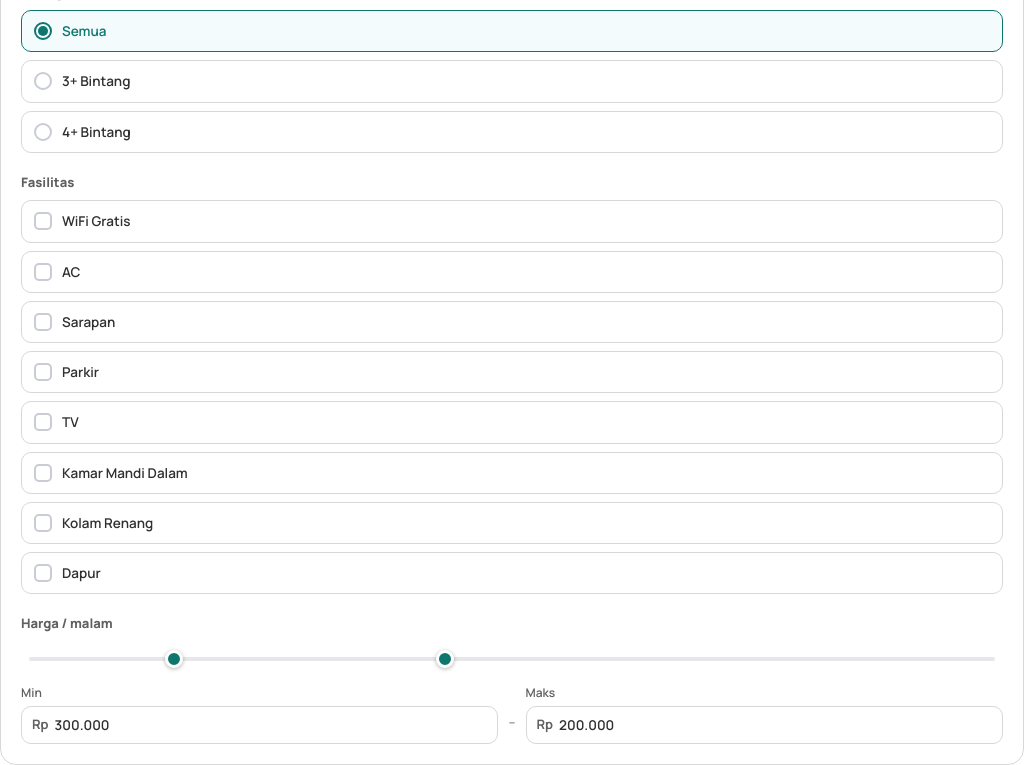
it: FilterBar input harga › menyesuaikan batas silang saat blur bila Min melebihi Maks
The image size is (1024, 765).
(page scrolled)
Click the field labelled "Min" at [271, 725], box [55,715,488,735]
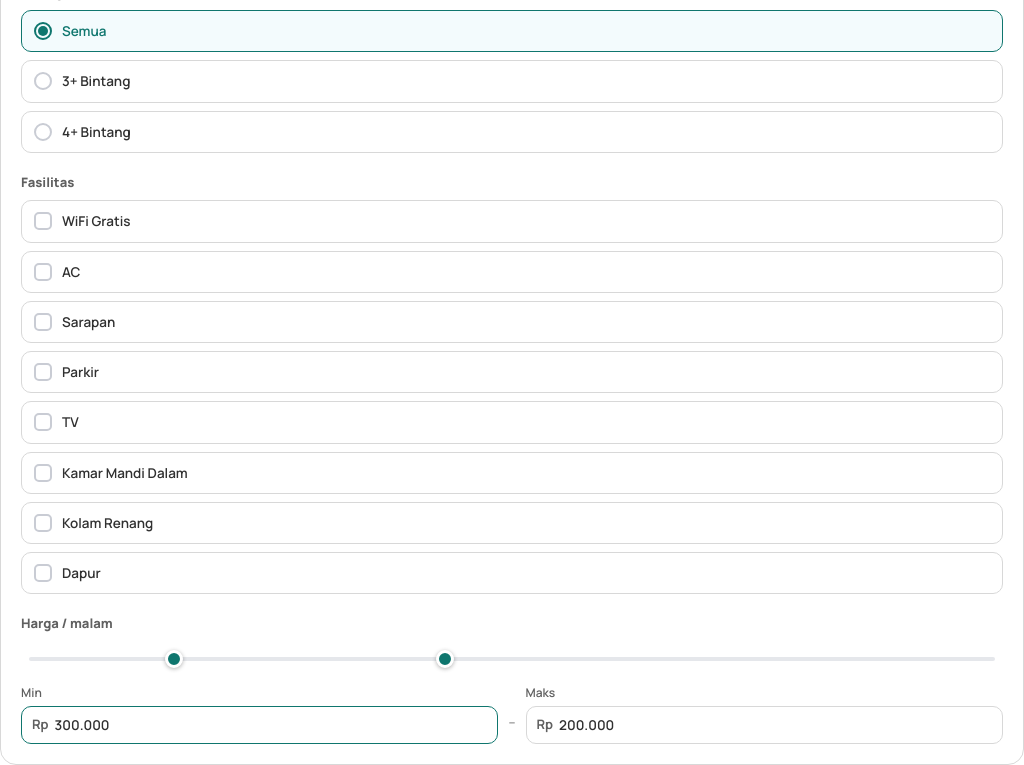
Press Tab
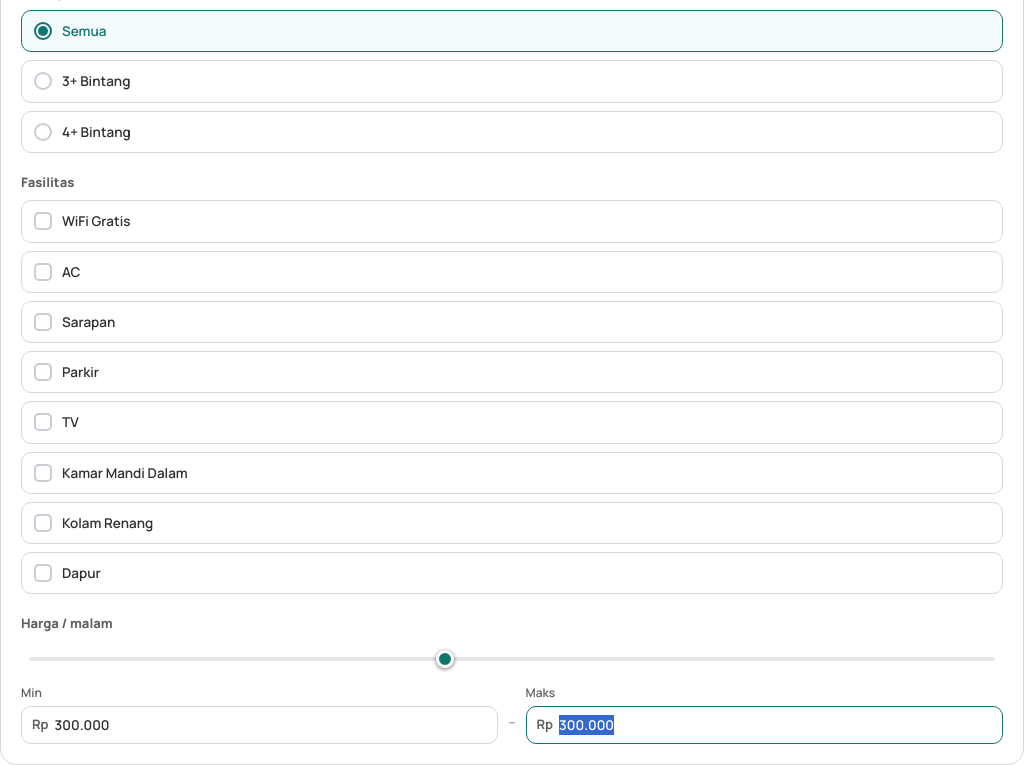
Expected: the field labelled "Maks" holds "300.000", [559,715,992,735]
